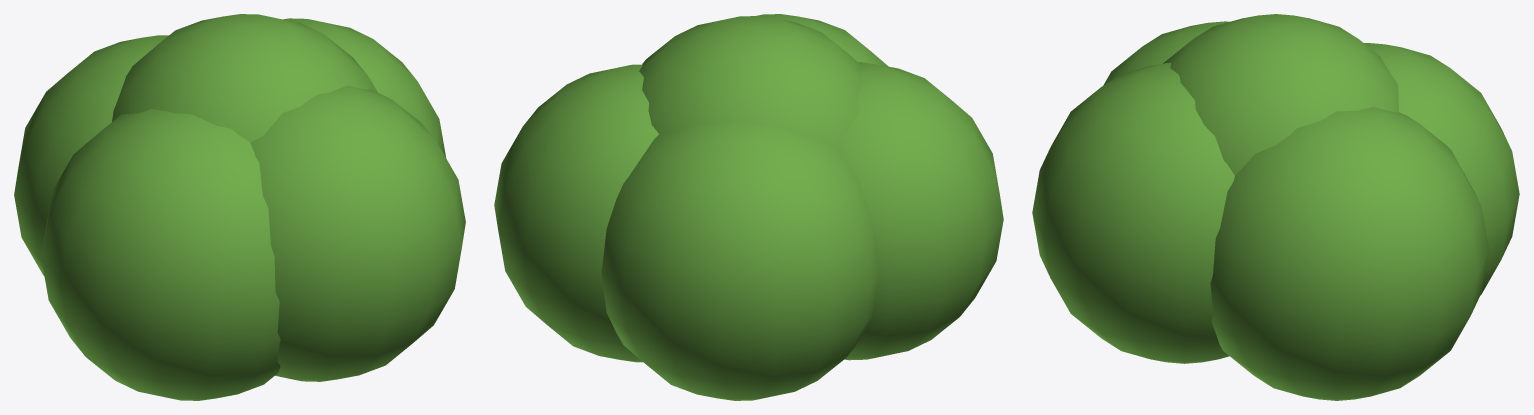
The model's file is bush.glb.
3 renders of one model, left to right at view 1: azimuth 30°, elevation 25°; view 2: azimuth 150°, elevation 25°; view 3: azimuth 270°, elevation 25°, orthographic.
Visible parts, largest first — view 1: Bush_Leaves; view 2: Bush_Leaves; view 3: Bush_Leaves.
Part boxes in pixels (left/top/right/bottom): Bush_Leaves: left=14, top=14, right=465, bottom=400; Bush_Leaves: left=494, top=14, right=1003, bottom=400; Bush_Leaves: left=1032, top=14, right=1519, bottom=400.
Size of the model in its own units: 0.96 by 0.7 by 0.96.
